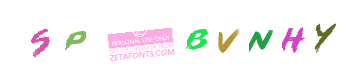5: (129, 0, 209, 80)
B: (134, 0, 214, 80)
H: (220, 0, 300, 80)
N: (179, 0, 259, 80)
P: (128, 0, 208, 80)
S: (101, 0, 181, 80)
V: (157, 0, 237, 80)
Y: (259, 0, 339, 80)
